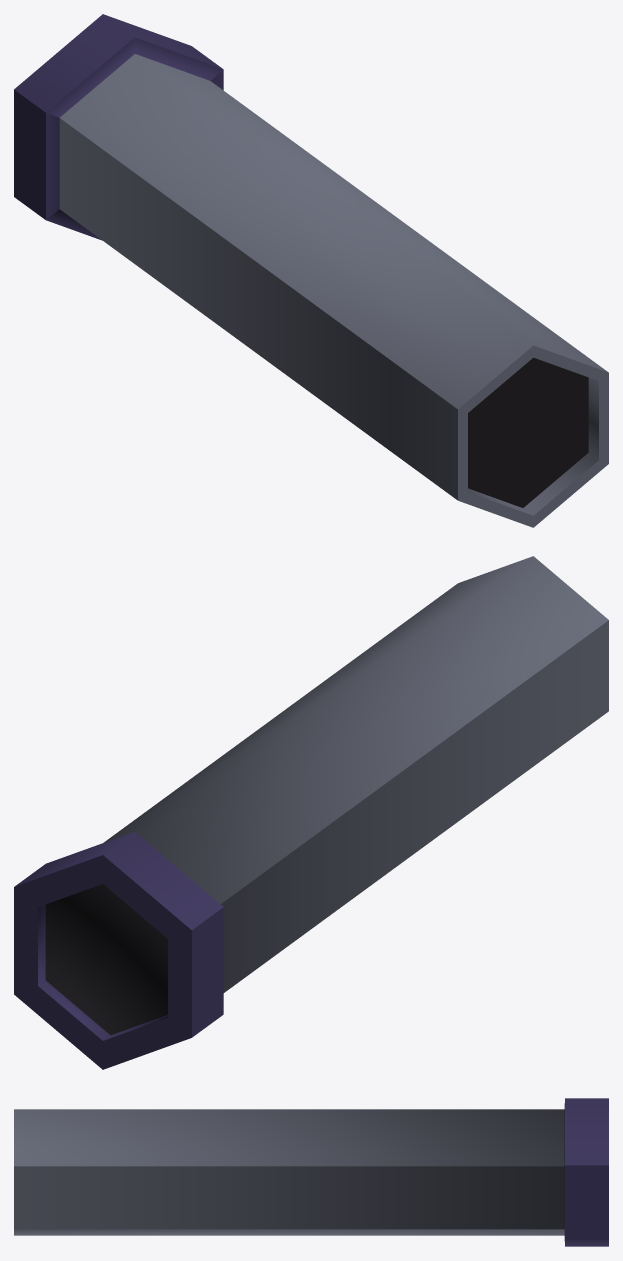
File: HalfPipe.fbx
3 views of the same model, one above another, from view 1: azimuth 30°, elevation 25°; view 2: azimuth 150°, elevation 25°; view 3: azimuth 270°, elevation 25° (orthographic). The views are drawn at different scales.
Parts seen in each view (by area): view 1: HalfPipe; view 2: HalfPipe; view 3: HalfPipe.
Boxes of the visible parts, x1,y1,x2,y2 form: HalfPipe: [14, 14, 608, 527]; HalfPipe: [14, 556, 608, 1069]; HalfPipe: [14, 1098, 608, 1246].
Size of the model in its own units: 0.0861 by 0.0995 by 0.3612.
